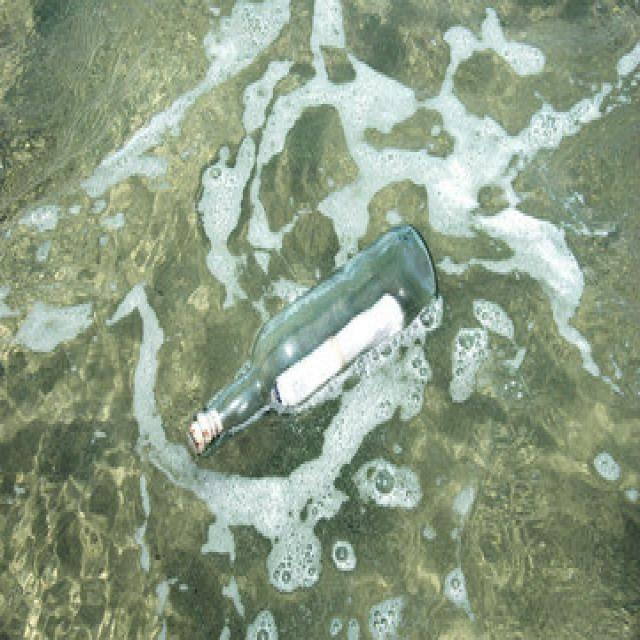Glass: (186, 225, 441, 464)
